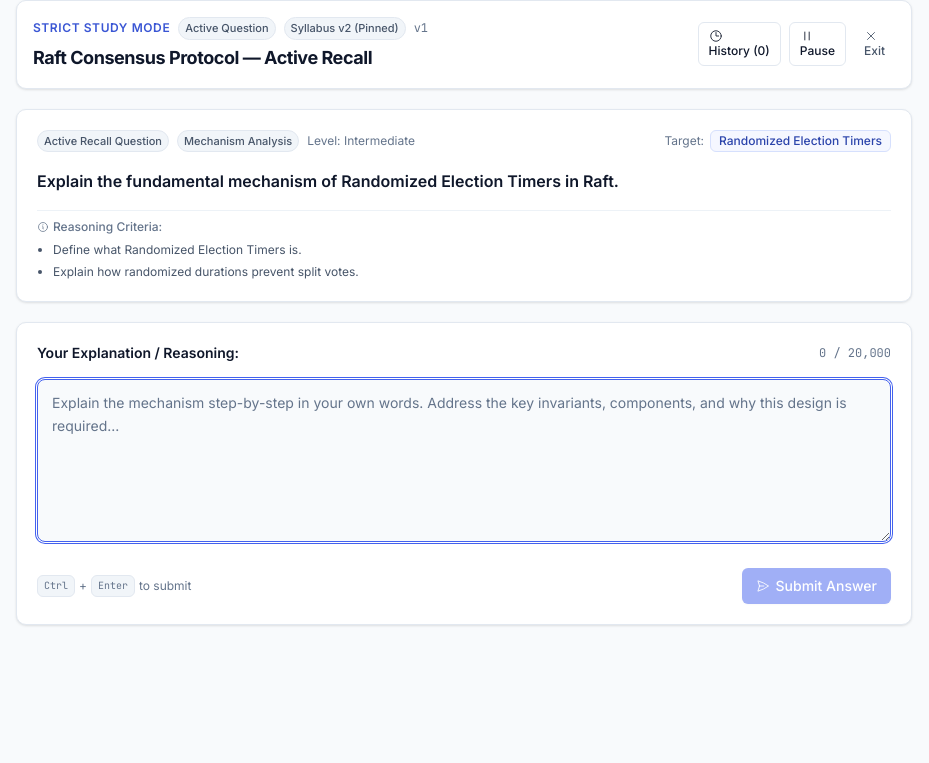
it: StudyPage — Phase 08 Strict Study Mode Frontend › 13. handles evaluation crash recovery safely (EVALUATION_FAILED_RETRY_SAFE)
Replace the text in the text box labelled "Your Explanation / Reasoning:" with "Answer encountering crash.". click: [464, 460]
box: [37, 379, 891, 542]
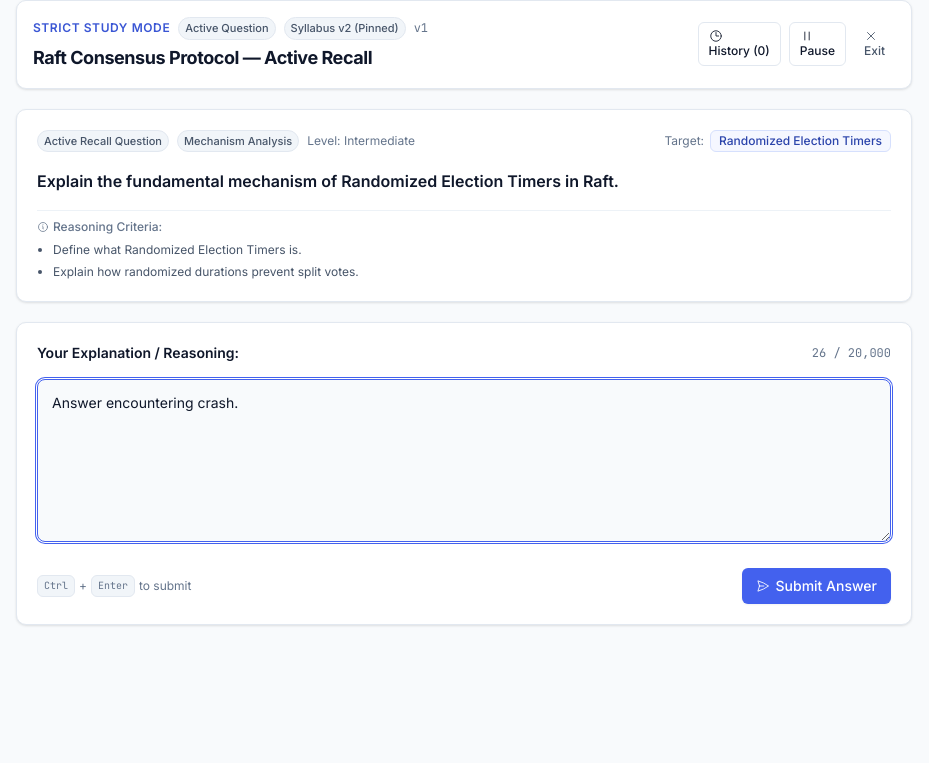
Click the button "Submit Answer". click: [816, 586]
box: [742, 568, 891, 604]
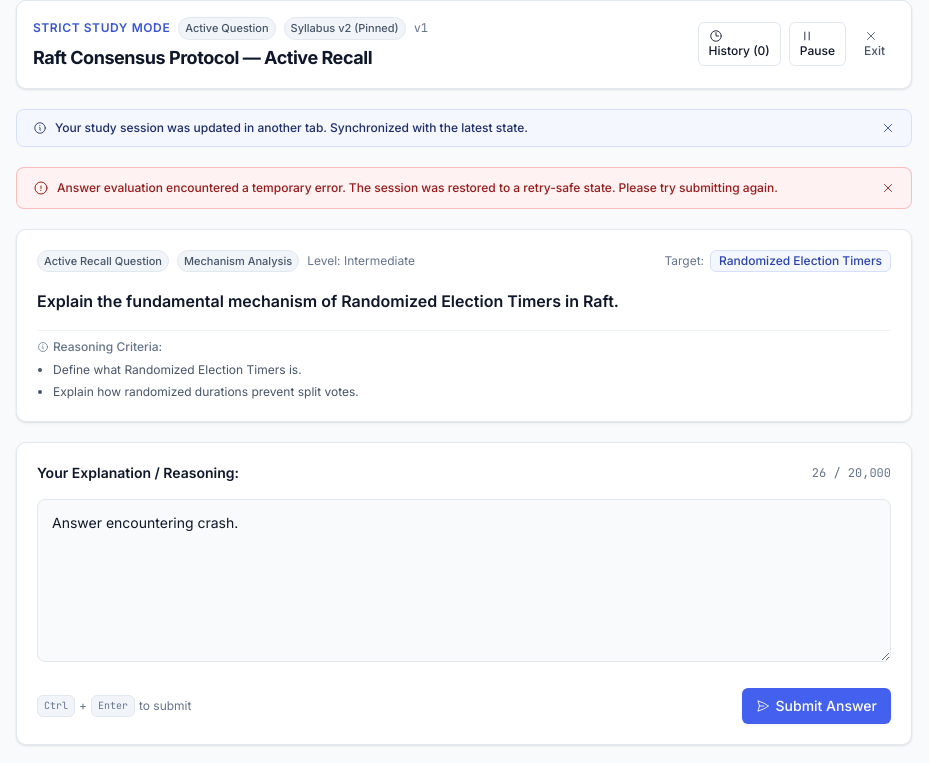
Now the text "Answer evaluation encountered a temporary error. The session was restored to a retry-safe state" is shown, box [57, 180, 778, 194]
